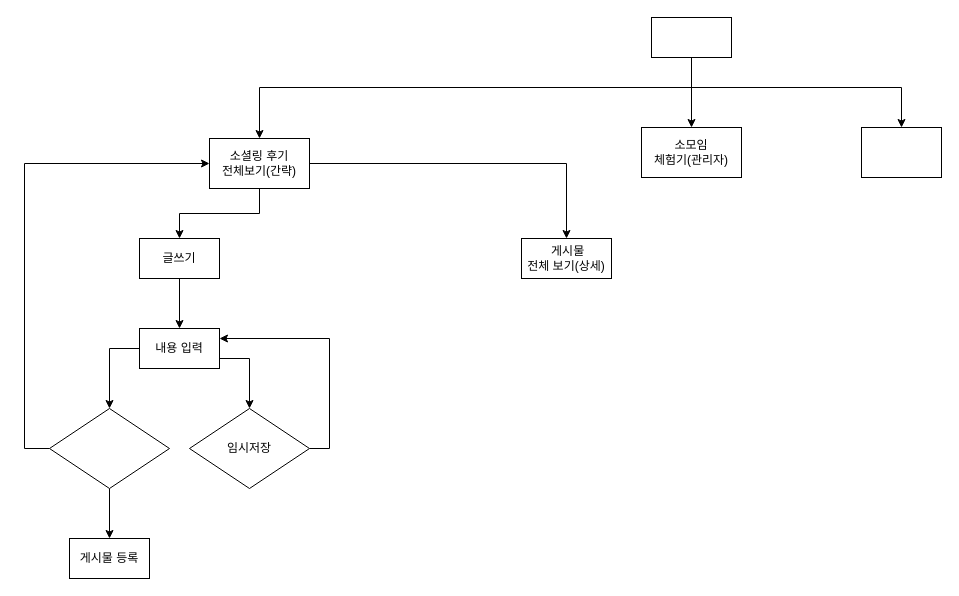
The diagram is 959 pixels wide and 596 high, and some of its shapes have lost their labels. The centre of each missing label's shape, as x and y in pixels:
"매거진" goes at (691,37).
"발행 하시겠습니까?" goes at (109,448).
"팔로워 후기 전체보기" goes at (901,152).
